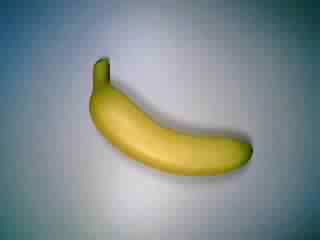banana: (87, 56, 253, 179)
